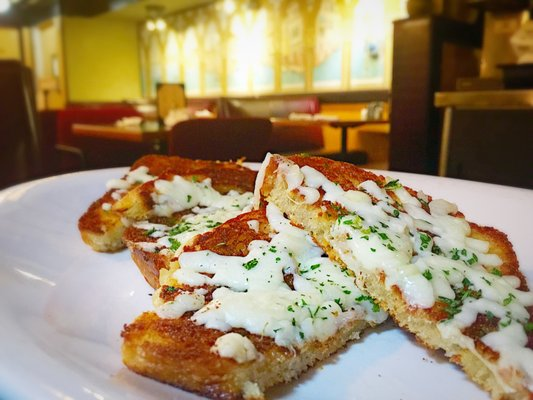curry: (1, 155, 490, 400)
pasta: (433, 89, 533, 192), (167, 118, 331, 164), (0, 58, 42, 190), (167, 118, 275, 163)
sandwich: (103, 151, 532, 399), (259, 154, 533, 400)
